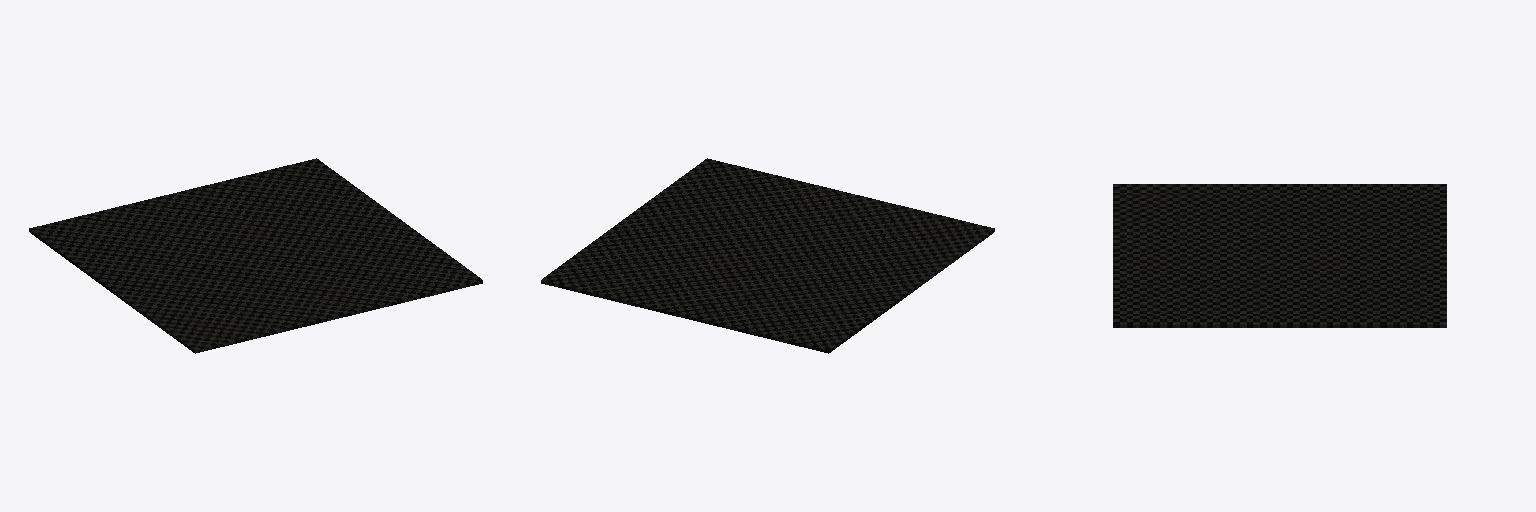
3 views of the same model, side by side, from view 1: azimuth 30°, elevation 25°; view 2: azimuth 150°, elevation 25°; view 3: azimuth 270°, elevation 25° (orthographic).
Visible parts, largest first — view 1: Cube; view 2: Cube; view 3: Cube.
Part boxes in pixels (bbox=[...]): Cube: bbox=[29, 158, 482, 353]; Cube: bbox=[541, 158, 994, 353]; Cube: bbox=[1113, 184, 1446, 327].
Bounding box in the file's own units: 364 × 3.75 × 364.
Materials: 1 (1 with a texture image).